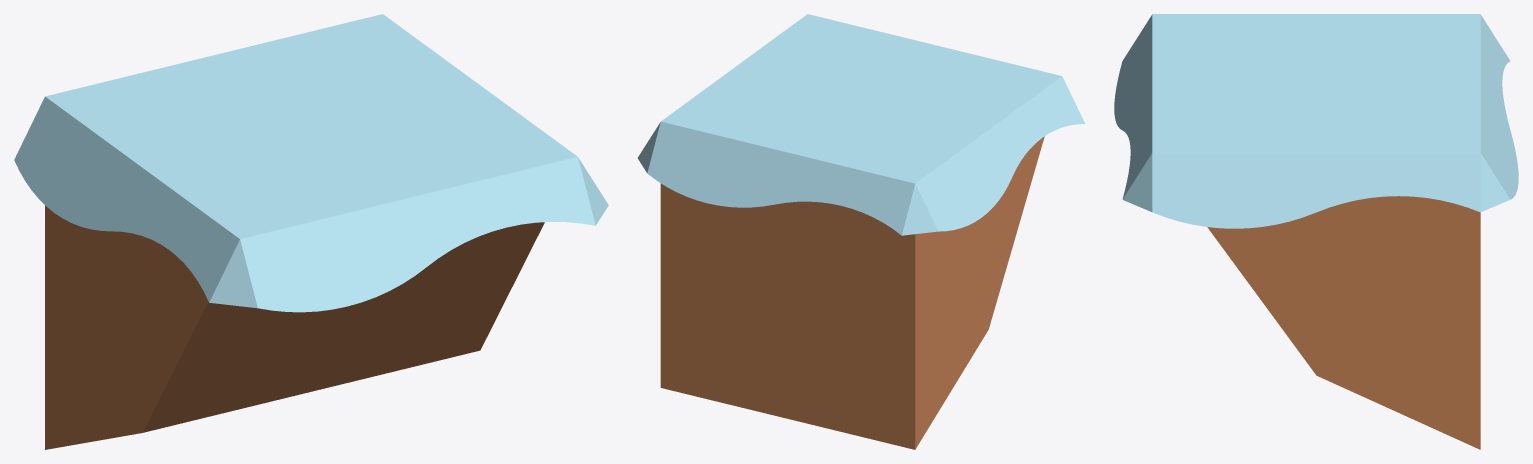
File: blockSnowCliff.dae
3 views of the same model, side by side, from view 1: azimuth 30°, elevation 25°; view 2: azimuth 150°, elevation 25°; view 3: azimuth 270°, elevation 25° (orthographic). The views are drawn at different scales.
Visible parts, largest first — view 1: blockSnowCliff; view 2: blockSnowCliff; view 3: blockSnowCliff.
Part boxes in pixels (left/top/right/bottom): blockSnowCliff: left=14, top=14, right=608, bottom=449; blockSnowCliff: left=637, top=14, right=1085, bottom=449; blockSnowCliff: left=1114, top=14, right=1518, bottom=449.
Size of the model in its own units: 1.23 by 1 by 1.23.
